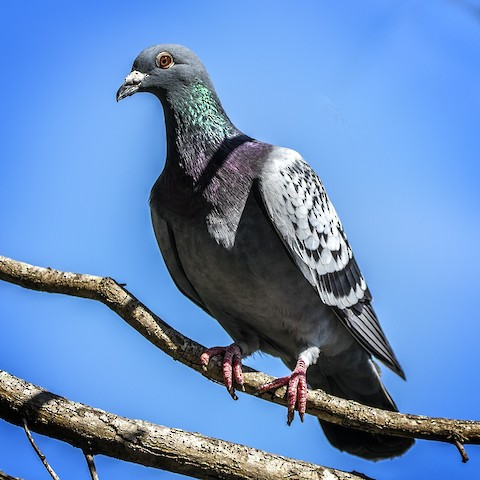pigeon: (106, 39, 430, 465)
